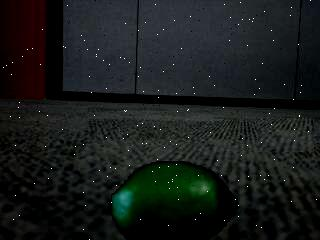Lime: (110, 161, 242, 240)
